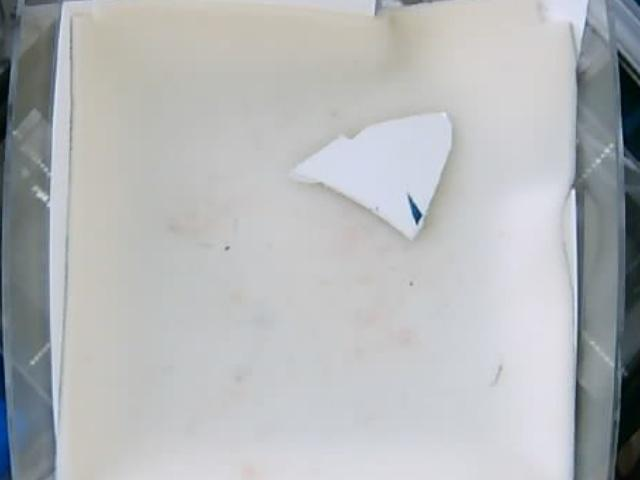China: (291, 107, 454, 239)
